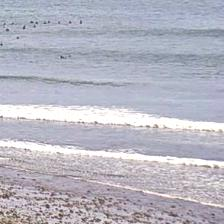surfer: (60, 55, 66, 58), (68, 20, 72, 24), (22, 25, 26, 29), (10, 22, 15, 25), (33, 24, 36, 28), (16, 36, 20, 39), (42, 22, 47, 24), (3, 22, 6, 25), (68, 55, 72, 57), (80, 20, 82, 24), (58, 20, 60, 24), (1, 42, 3, 46), (48, 20, 50, 23), (30, 21, 33, 23), (6, 29, 9, 31), (36, 22, 38, 24)
